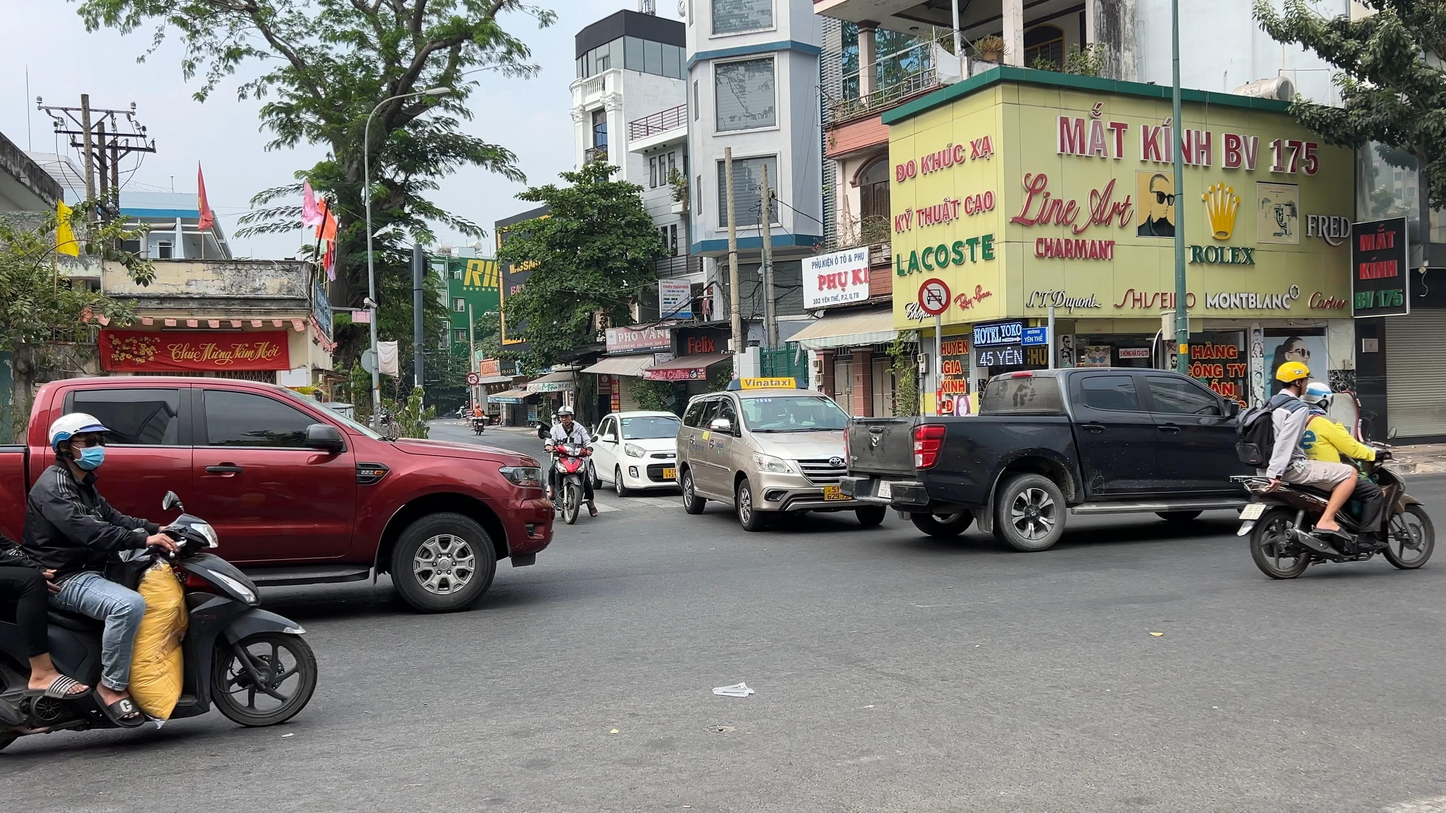driver: (0, 412, 317, 752), (1229, 362, 1434, 579), (542, 405, 599, 524), (470, 403, 489, 435), (455, 401, 470, 419)
helmet: (49, 413, 112, 473), (1275, 361, 1314, 398), (1299, 382, 1334, 413), (557, 405, 575, 426)
